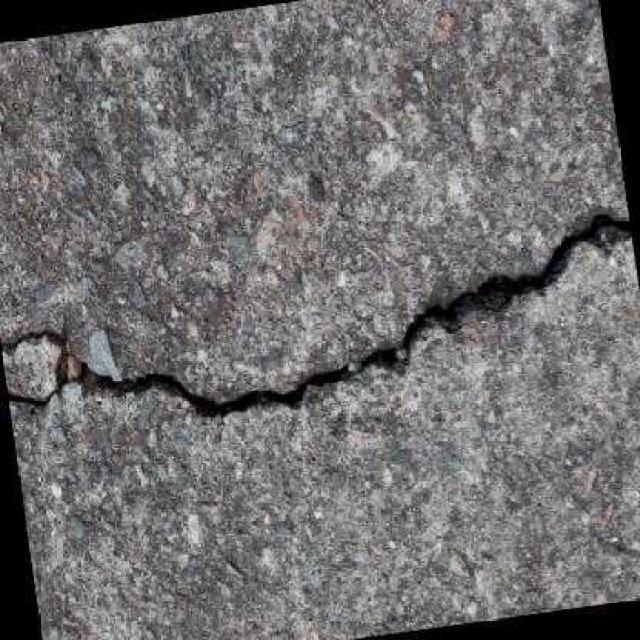D00: (0, 212, 632, 418)
